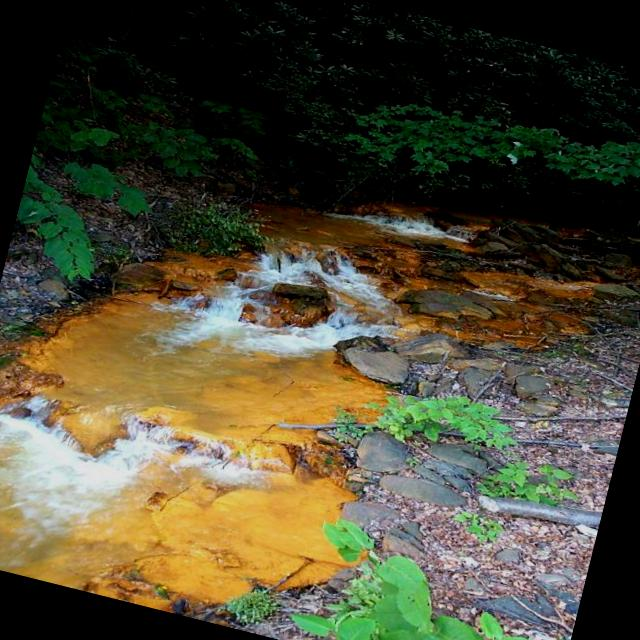yellow_boy: (0, 206, 402, 610)
